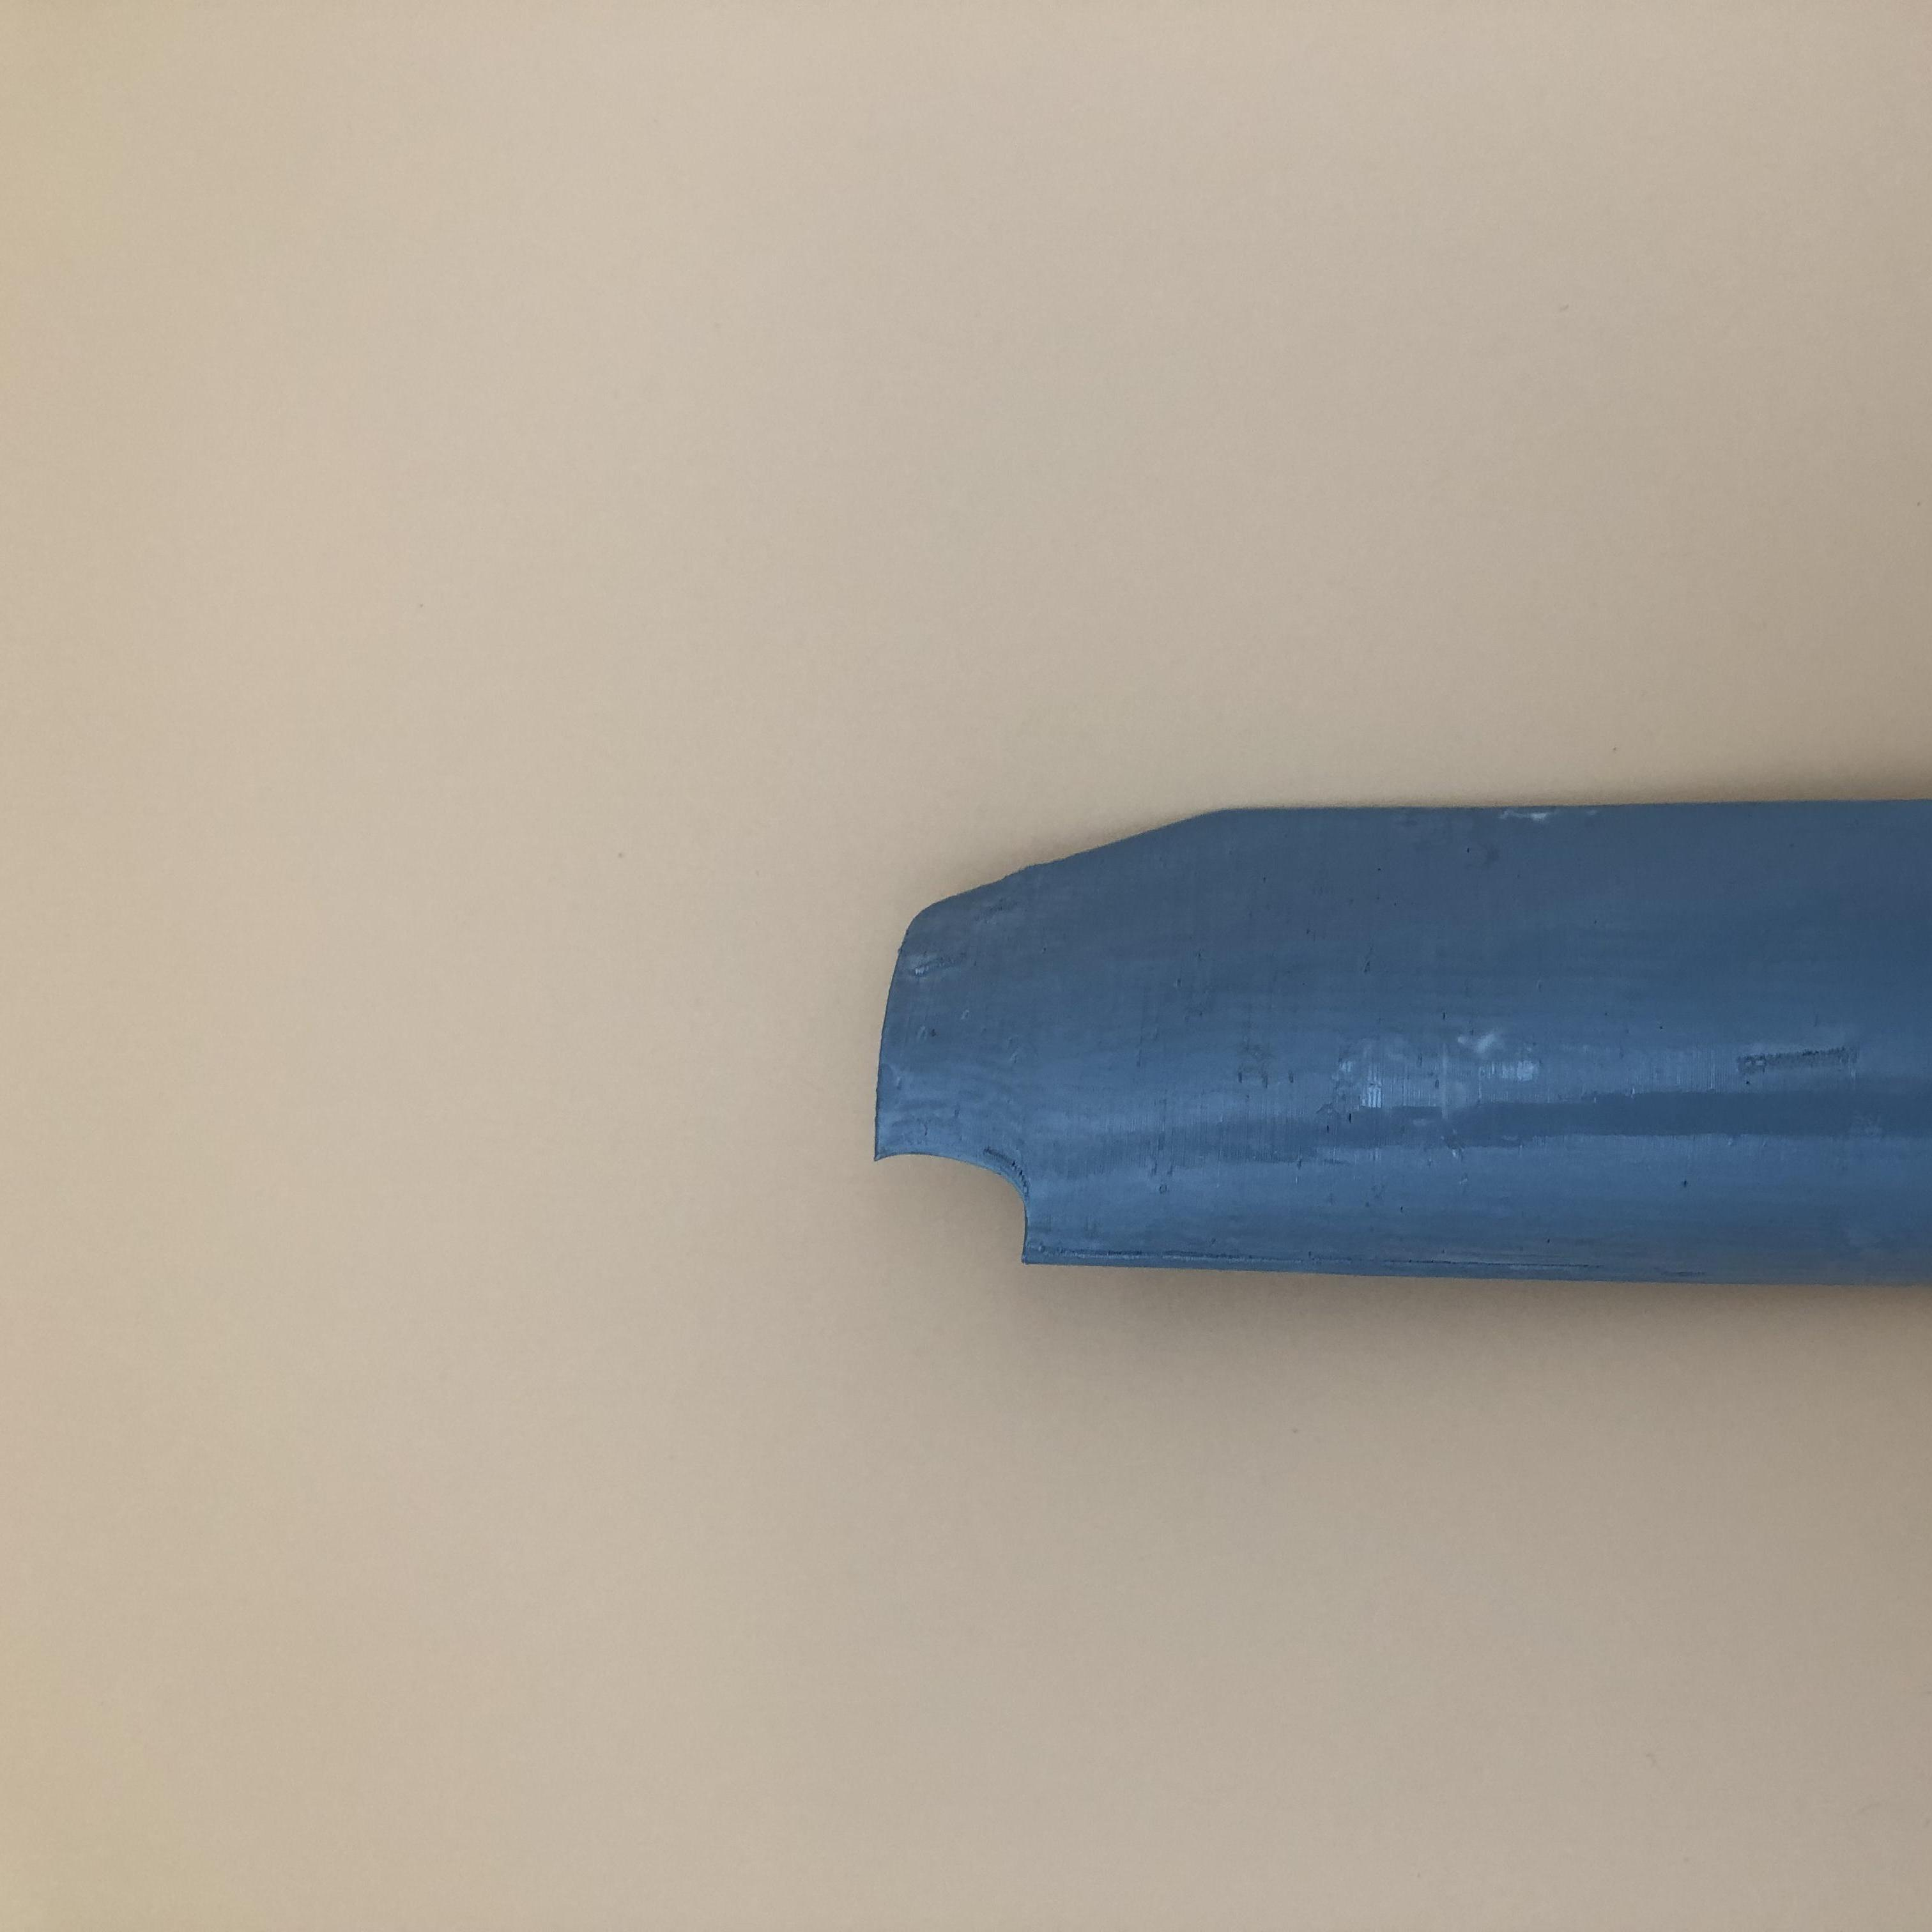fracture: (883, 1106, 1069, 1261)
